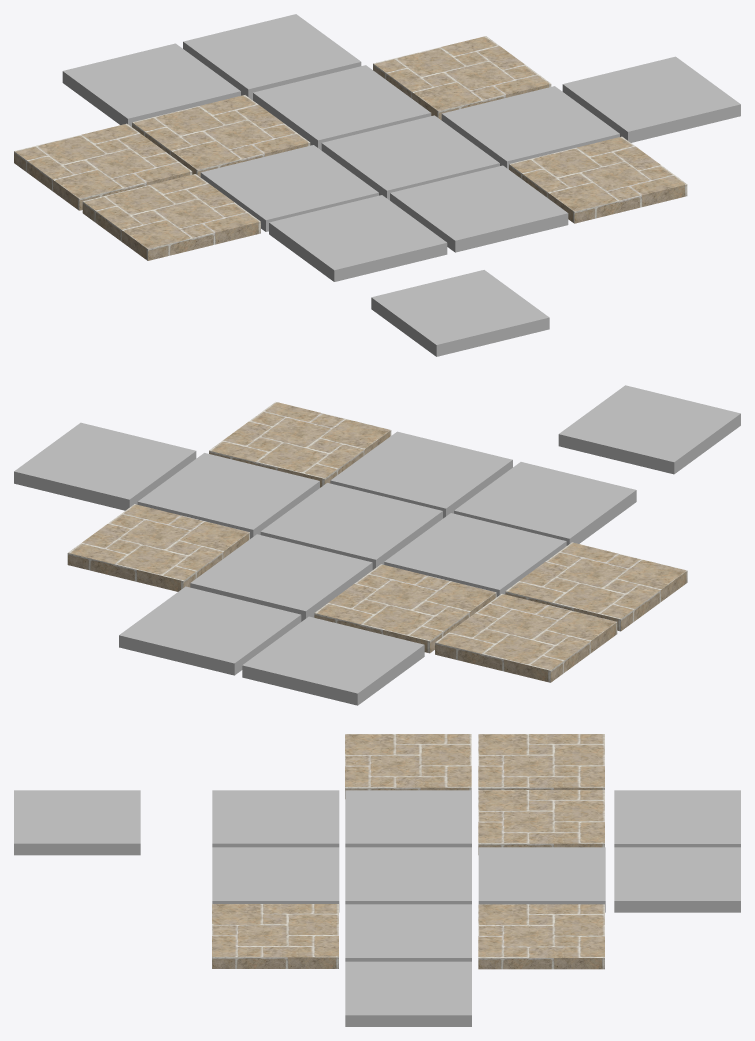
File: grid_level_1.obj
The picture shows the model from 3 angles, top to bottom: view 1: azimuth 30°, elevation 25°; view 2: azimuth 150°, elevation 25°; view 3: azimuth 270°, elevation 25°; orthographic projection. The views are drawn at different scales.
Visible parts, largest first — view 1: Dark_tile.001_Cube.003, Light_tile.001_Cube.008, Dark_tile.009_Cube.017, Dark_tile_Cube.001, Dark_tile.004_Cube.006, Light_tile_Cube.002, Dark_tile.008_Cube.016, Light_tile.002_Cube.009, Dark_tile.007_Cube.015, Dark_tile.006_Cube.013, Dark_tile.003_Cube.005, Dark_tile.005_Cube.007 (+3 smaller); view 2: Dark_tile.008_Cube.016, Light_tile.002_Cube.009, Dark_tile.009_Cube.017, Dark_tile.007_Cube.015, Dark_tile.004_Cube.006, Light_tile.004_Cube.014, Light_tile.001_Cube.008, Dark_tile.001_Cube.003, Dark_tile.006_Cube.013, Light_tile.003_Cube.012, Dark_tile.003_Cube.005, Dark_tile_Cube.001 (+3 smaller); view 3: Dark_tile.009_Cube.017, Dark_tile.007_Cube.015, Light_tile.004_Cube.014, Dark_tile.004_Cube.006, Light_tile_Cube.002, Dark_tile.006_Cube.013, Dark_tile.001_Cube.003, Light_tile.003_Cube.012, Dark_tile.008_Cube.016, Dark_tile.005_Cube.007, Dark_tile.003_Cube.005, Dark_tile.002_Cube.004 (+3 smaller).
Boxes of the visible parts, bbox=[...] form: Dark_tile.001_Cube.003: bbox=[269, 195, 447, 281]; Light_tile.001_Cube.008: bbox=[82, 174, 260, 260]; Dark_tile.009_Cube.017: bbox=[371, 270, 549, 356]; Dark_tile_Cube.001: bbox=[390, 165, 568, 252]; Dark_tile.004_Cube.006: bbox=[562, 56, 740, 142]; Light_tile_Cube.002: bbox=[509, 136, 687, 223]; Dark_tile.008_Cube.016: bbox=[62, 43, 240, 126]; Light_tile.002_Cube.009: bbox=[14, 123, 192, 210]; Dark_tile.007_Cube.015: bbox=[183, 14, 361, 100]; Dark_tile.006_Cube.013: bbox=[253, 65, 431, 150]; Dark_tile.003_Cube.005: bbox=[321, 115, 499, 200]; Dark_tile.005_Cube.007: bbox=[441, 86, 619, 169]; Dark_tile.008_Cube.016: bbox=[242, 616, 424, 705]; Light_tile.002_Cube.009: bbox=[435, 594, 617, 682]; Dark_tile.009_Cube.017: bbox=[558, 385, 740, 474]; Dark_tile.007_Cube.015: bbox=[119, 586, 301, 675]; Dark_tile.004_Cube.006: bbox=[14, 422, 196, 510]; Light_tile.004_Cube.014: bbox=[67, 504, 249, 591]; Light_tile.001_Cube.008: bbox=[505, 542, 687, 631]; Dark_tile.001_Cube.003: bbox=[454, 462, 636, 545]; Dark_tile.006_Cube.013: bbox=[190, 534, 372, 621]; Light_tile.003_Cube.012: bbox=[314, 564, 496, 653]; Dark_tile.003_Cube.005: bbox=[260, 483, 442, 569]; Dark_tile_Cube.001: bbox=[330, 431, 512, 518]; Dark_tile.009_Cube.017: bbox=[14, 790, 140, 855]; Dark_tile.007_Cube.015: bbox=[614, 847, 740, 912]; Light_tile.004_Cube.014: bbox=[478, 904, 604, 969]; Dark_tile.004_Cube.006: bbox=[345, 961, 471, 1026]; Light_tile_Cube.002: bbox=[212, 904, 338, 968]; Dark_tile.006_Cube.013: bbox=[478, 847, 605, 912]; Dark_tile.001_Cube.003: bbox=[212, 790, 339, 847]; Light_tile.003_Cube.012: bbox=[478, 790, 604, 854]; Dark_tile.008_Cube.016: bbox=[614, 790, 740, 847]; Dark_tile.005_Cube.007: bbox=[345, 904, 471, 961]; Dark_tile.003_Cube.005: bbox=[345, 847, 471, 904]; Dark_tile.002_Cube.004: bbox=[345, 790, 471, 847].
Bounding box in the file's own units: 10.49 × 0.2009 × 11.47.
